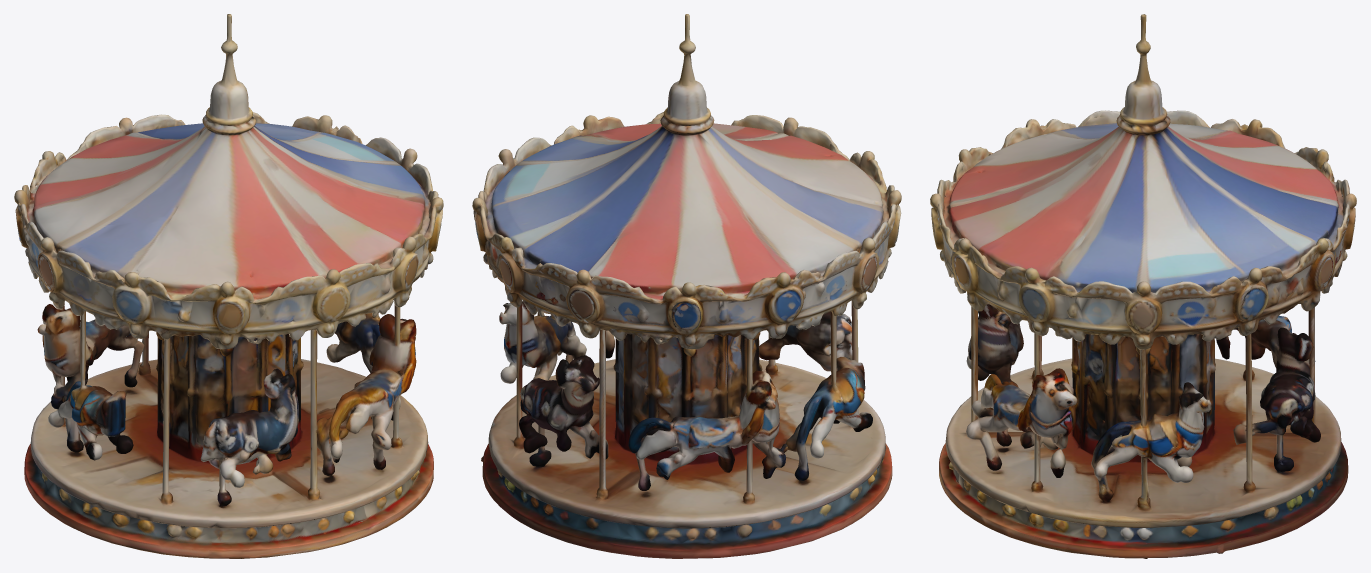
Rendered from building-carousel.glb.
3 renders of one model, left to right at view 1: azimuth 30°, elevation 25°; view 2: azimuth 150°, elevation 25°; view 3: azimuth 270°, elevation 25°, orthographic.
Visible parts, largest first — view 1: tripo_node_fa655f39-8c77-4617-a6b8-fd4b9219bbcc; view 2: tripo_node_fa655f39-8c77-4617-a6b8-fd4b9219bbcc; view 3: tripo_node_fa655f39-8c77-4617-a6b8-fd4b9219bbcc.
Boxes of the visible parts, x1,y1,x2,y2 form: tripo_node_fa655f39-8c77-4617-a6b8-fd4b9219bbcc: (14, 14, 443, 558); tripo_node_fa655f39-8c77-4617-a6b8-fd4b9219bbcc: (472, 14, 901, 558); tripo_node_fa655f39-8c77-4617-a6b8-fd4b9219bbcc: (930, 14, 1356, 558).
Size of the model in its own units: 4.65 by 6 by 4.59.
1 material, 1 textured.
